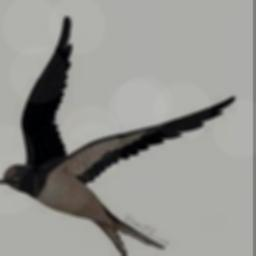Swallow: (0, 16, 236, 256)
